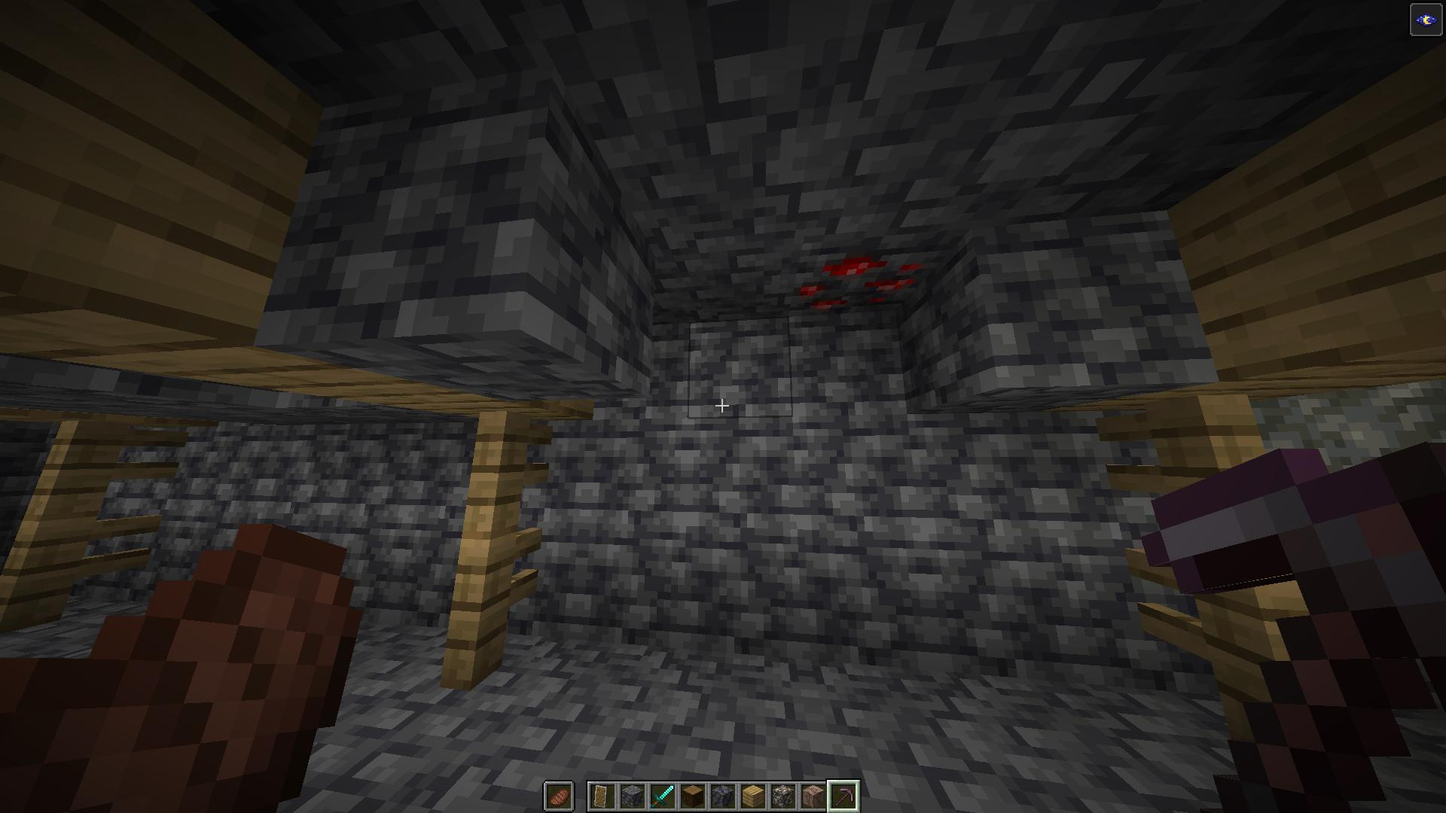redstone ore: (792, 241, 928, 310)
